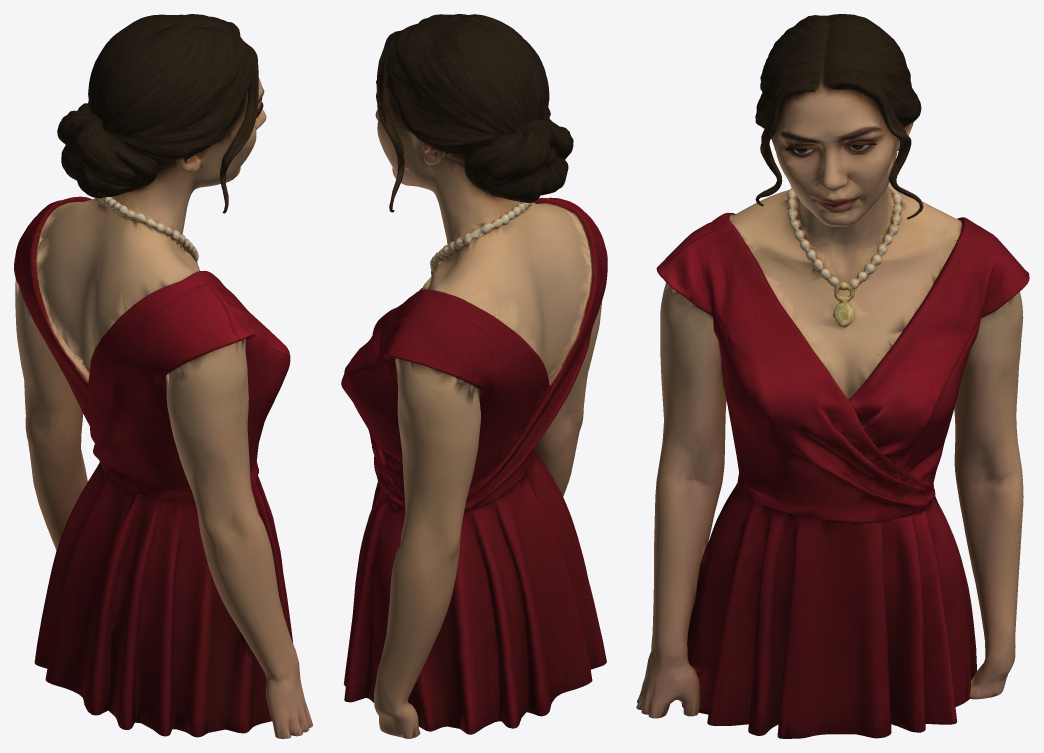
3 views of the same model, side by side, from view 1: azimuth 30°, elevation 25°; view 2: azimuth 150°, elevation 25°; view 3: azimuth 270°, elevation 25° (orthographic). The views are drawn at different scales.
Visible parts, largest first — view 1: ld1_pearl_necklace_3d_model__1__LOD0; view 2: ld1_pearl_necklace_3d_model__1__LOD0; view 3: ld1_pearl_necklace_3d_model__1__LOD0.
Part boxes in pixels (box(x1,y1,x2,y2)): ld1_pearl_necklace_3d_model__1__LOD0: box(14, 14, 312, 738); ld1_pearl_necklace_3d_model__1__LOD0: box(341, 14, 607, 738); ld1_pearl_necklace_3d_model__1__LOD0: box(636, 14, 1029, 738).
Size of what is drawn, in the model's own units: 0.3156 by 1 by 0.5308.
1 material, 1 textured.
